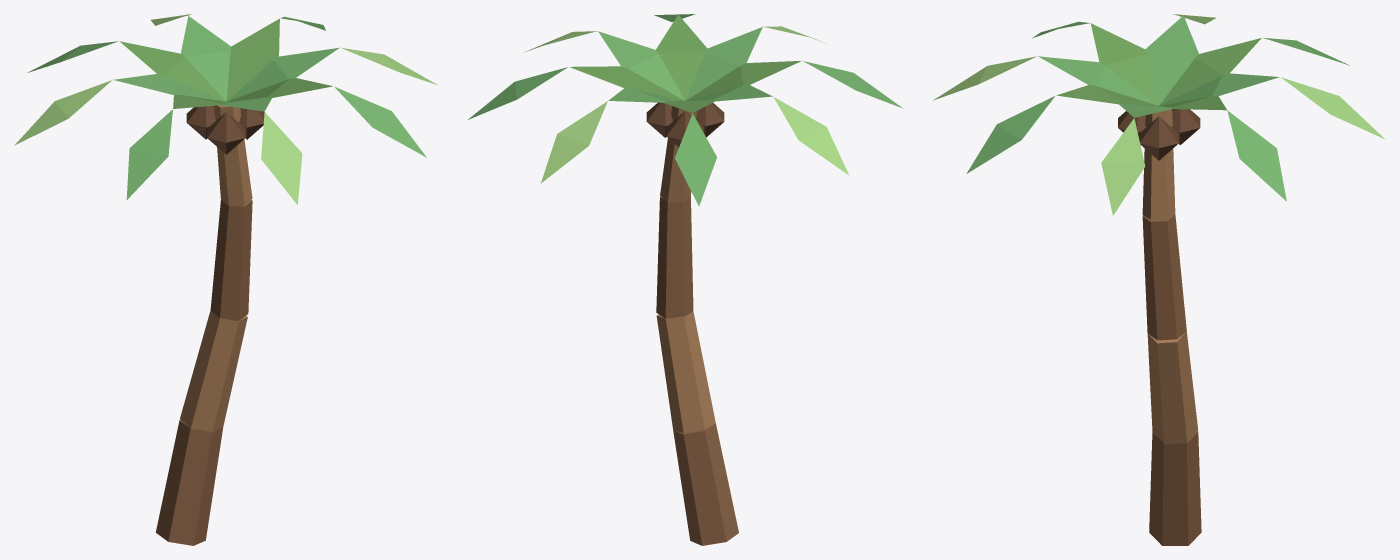
File: deco_palm_tree.obj
3 renders of one model, left to right at view 1: azimuth 30°, elevation 25°; view 2: azimuth 150°, elevation 25°; view 3: azimuth 270°, elevation 25°, orthographic. The views are drawn at different scales.
Visible parts, largest first — view 1: deco_palm_tree; view 2: deco_palm_tree; view 3: deco_palm_tree.
Boxes of the visible parts, x1,y1,x2,y2 form: deco_palm_tree: [14, 14, 437, 545]; deco_palm_tree: [468, 14, 903, 545]; deco_palm_tree: [933, 14, 1385, 545].
Bounding box in the file's own units: 0.0554 × 0.0658 × 0.0554.
Materials: 1 (1 with a texture image).
